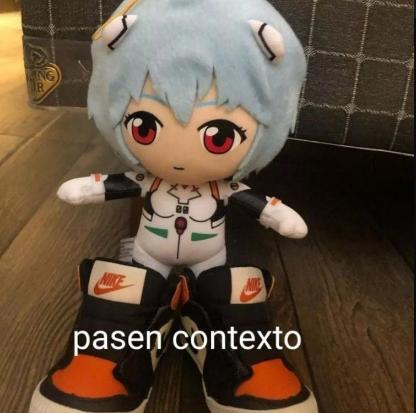rei-plush: (55, 0, 317, 281)
